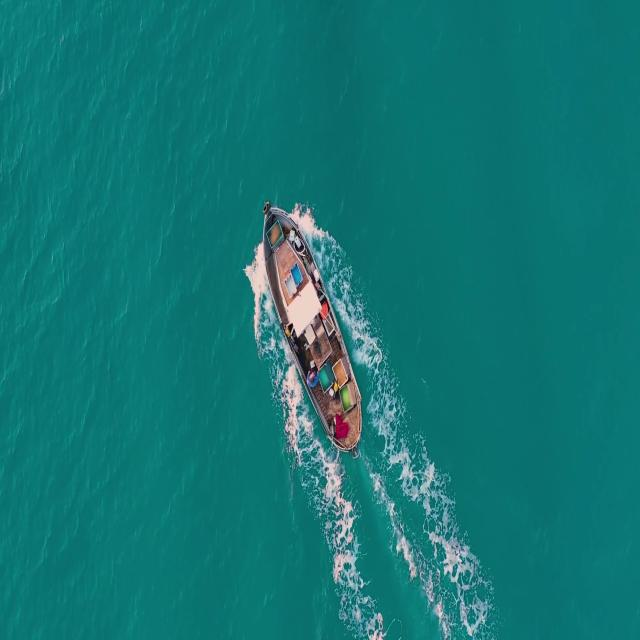ship: (260, 197, 362, 463)
